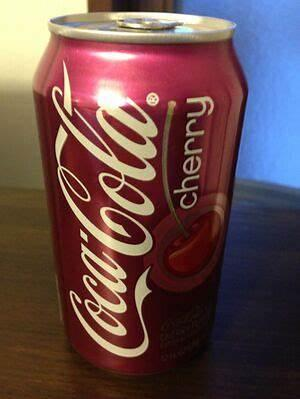metal: (34, 12, 247, 375)
